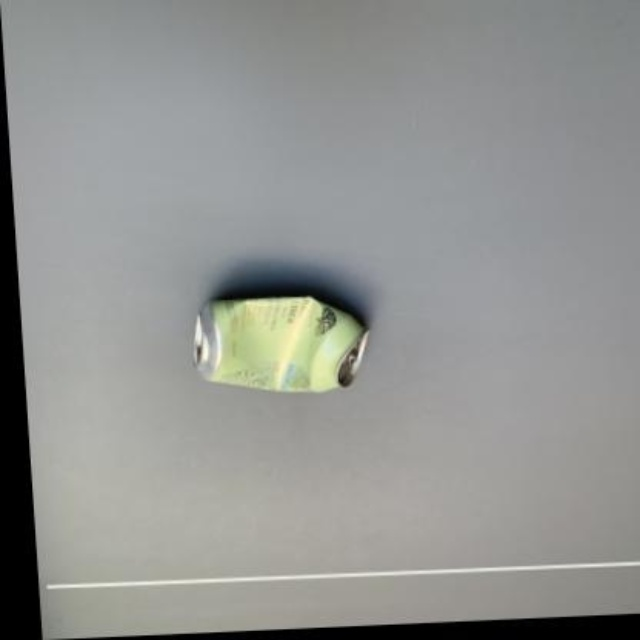trash: (194, 295, 366, 391)
